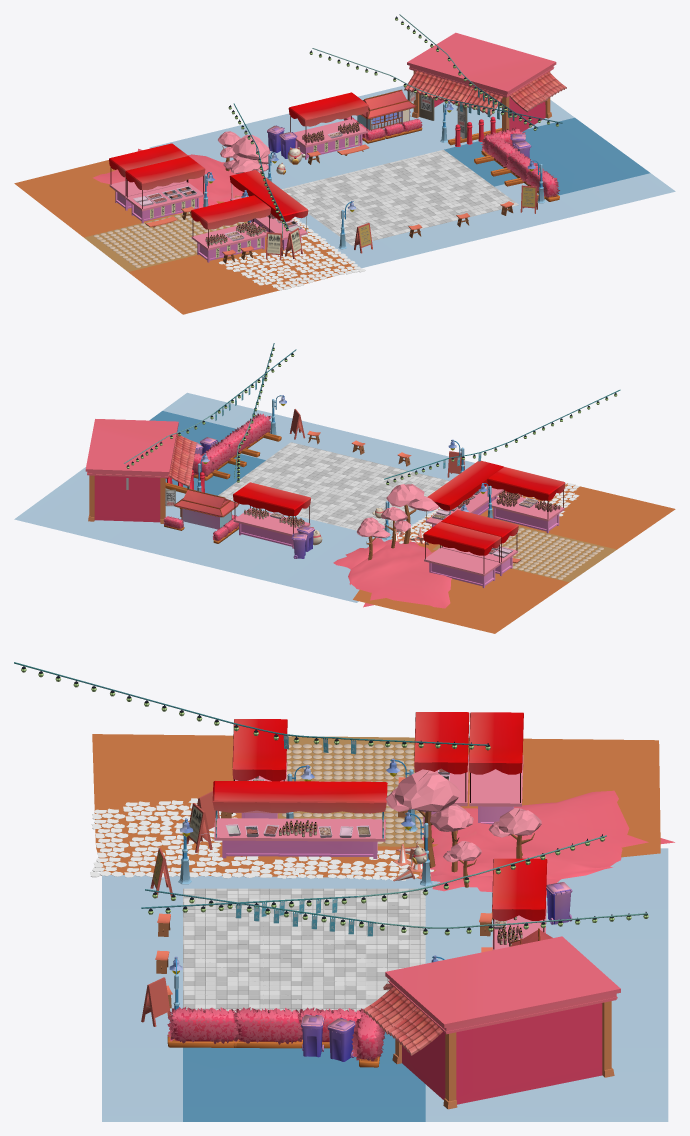
The model's file is Environment.fbx.
3 views of the same model, one above another, from view 1: azimuth 30°, elevation 25°; view 2: azimuth 150°, elevation 25°; view 3: azimuth 270°, elevation 25° (orthographic). The views are drawn at different scales.
Parts seen in each view (by area): view 1: Environment; view 2: Environment; view 3: Environment.
Part boxes in pixels (x1=…): Environment: x1=14, y1=14, x2=675, y2=314; Environment: x1=14, y1=343, x2=675, y2=633; Environment: x1=14, y1=662, x2=674, y2=1121.
Size of the model in its own units: 4880 by 828 by 3520.
3 materials, 2 textured.
